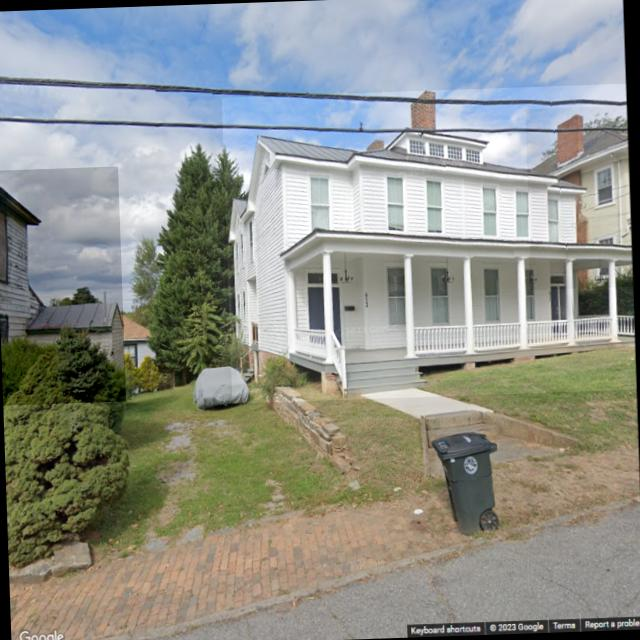House: (221, 84, 637, 404), (0, 166, 125, 405), (525, 105, 634, 290)
